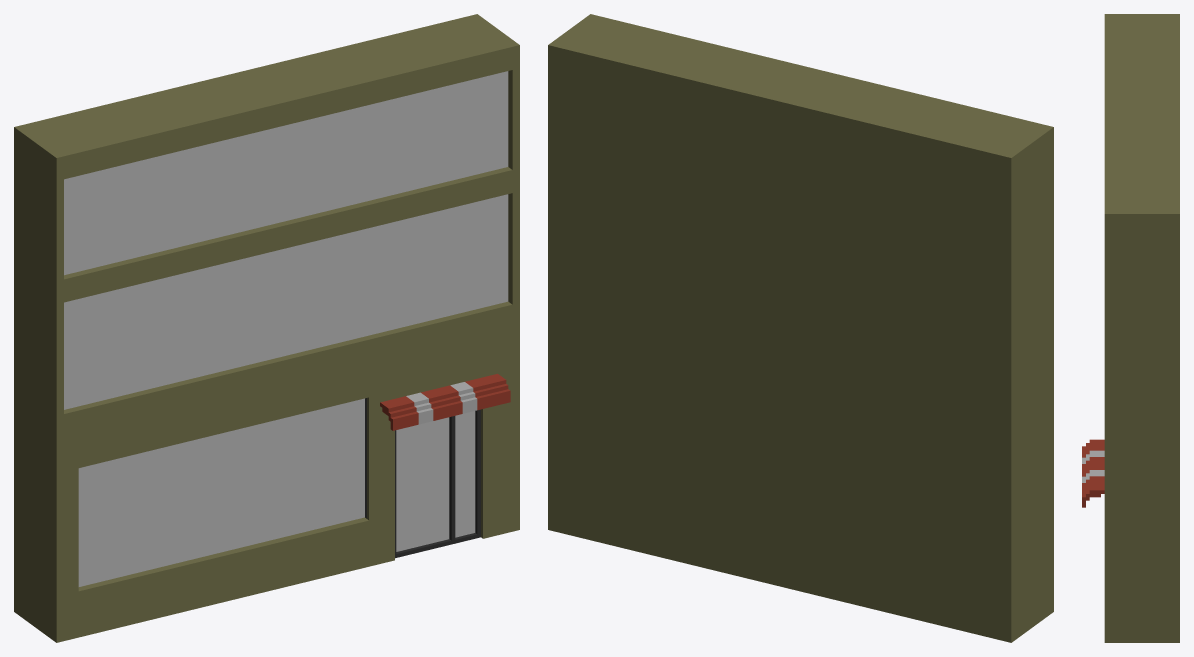
Rendered from Building_shop-1.obj.
3 renders of one model, left to right at view 1: azimuth 30°, elevation 25°; view 2: azimuth 150°, elevation 25°; view 3: azimuth 270°, elevation 25°, orthographic. The views are drawn at different scales.
Bounding box in the file's own units: 12.6 × 12.6 × 2.6.
Materials: 1 (1 with a texture image).
